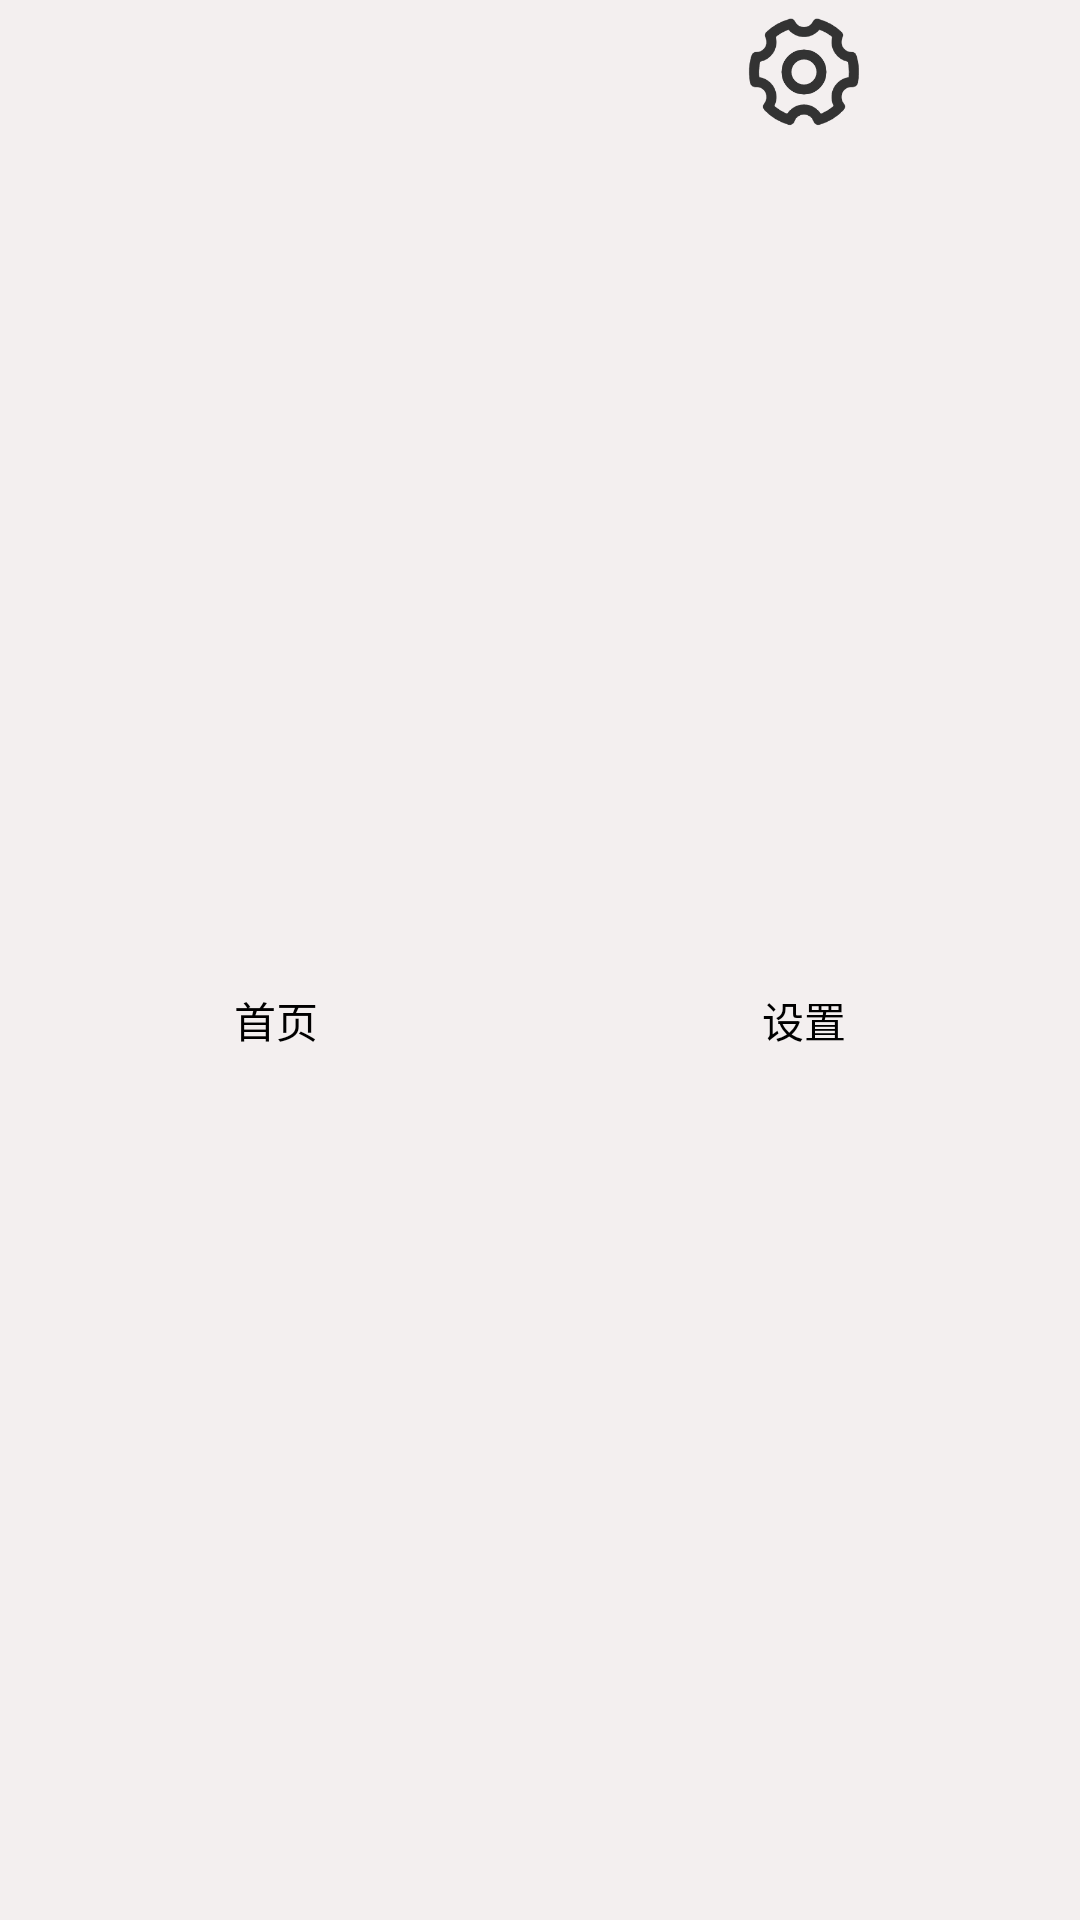

Screen size 1080px×1920px. Icon name, then its center in pixels as (x=x, y=y):
setting: (x=804, y=71)
